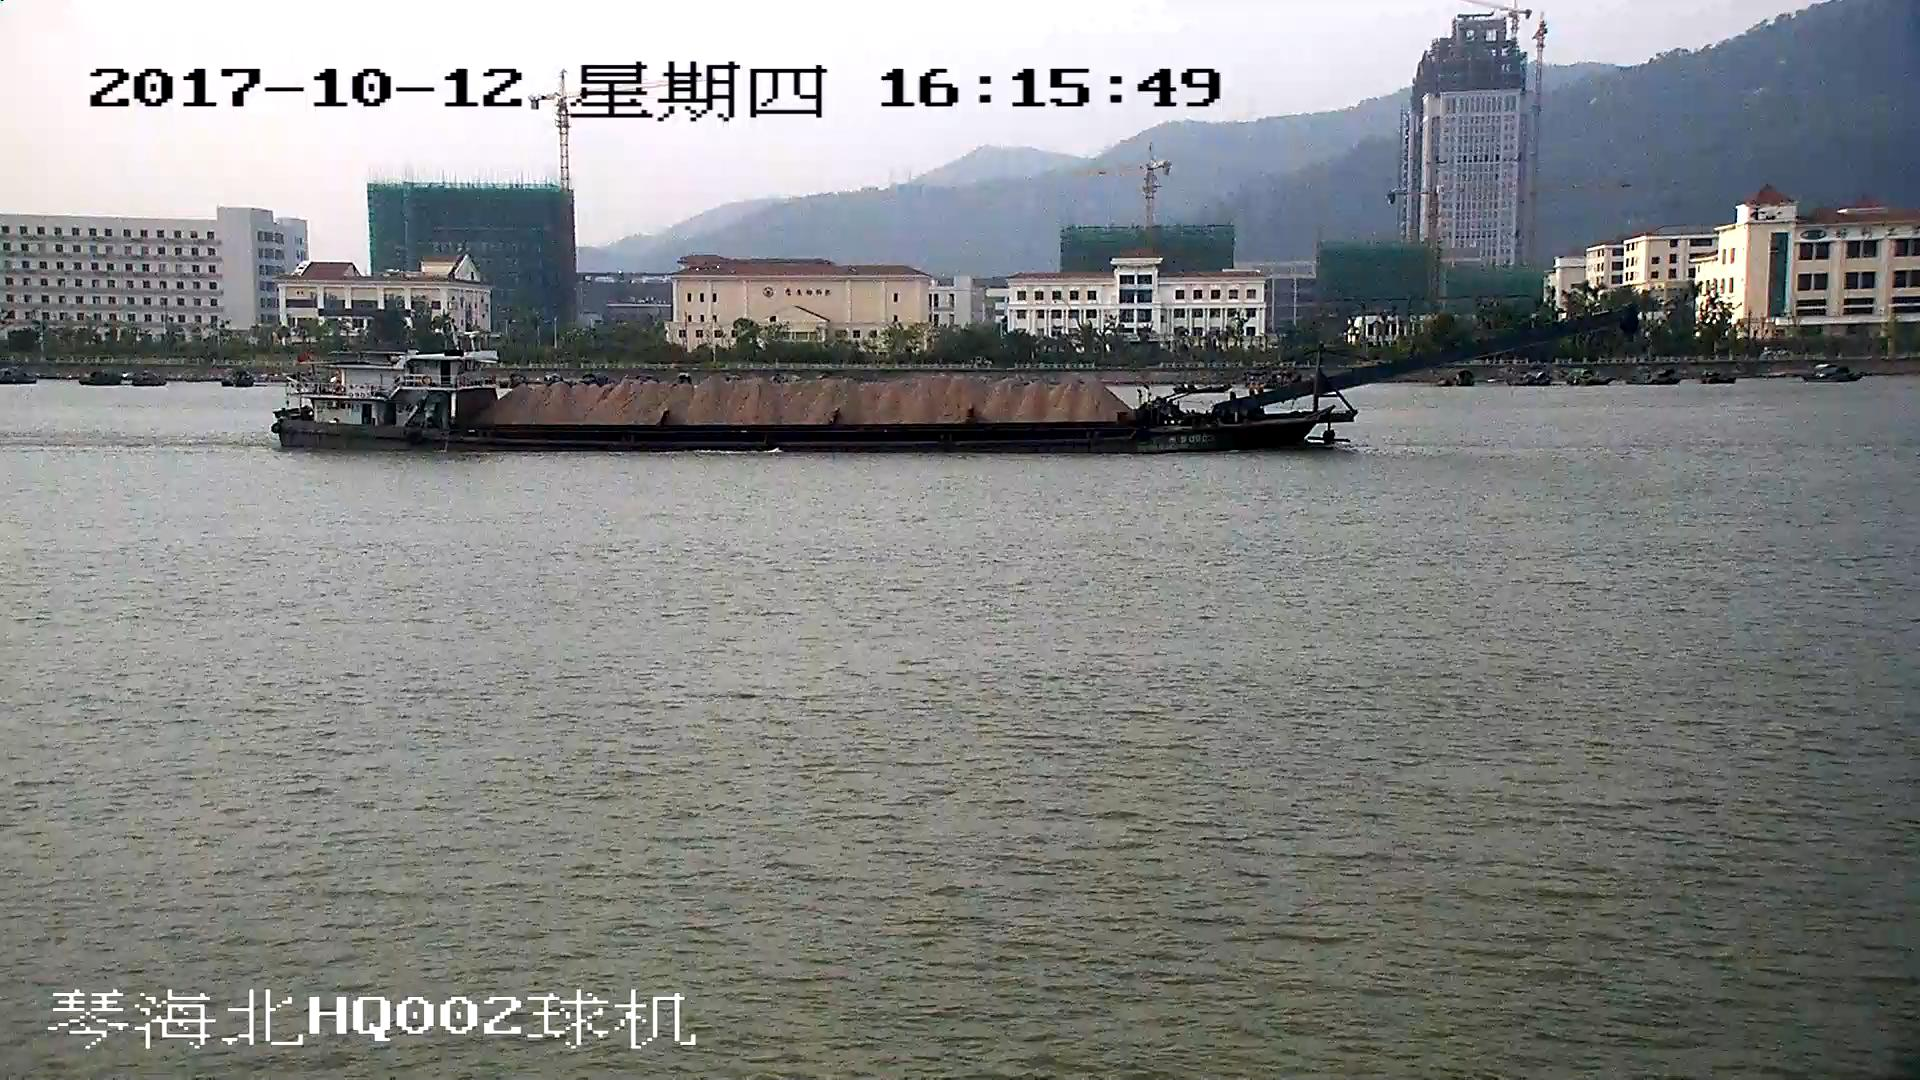ore carrier: (274, 309, 1628, 454)
